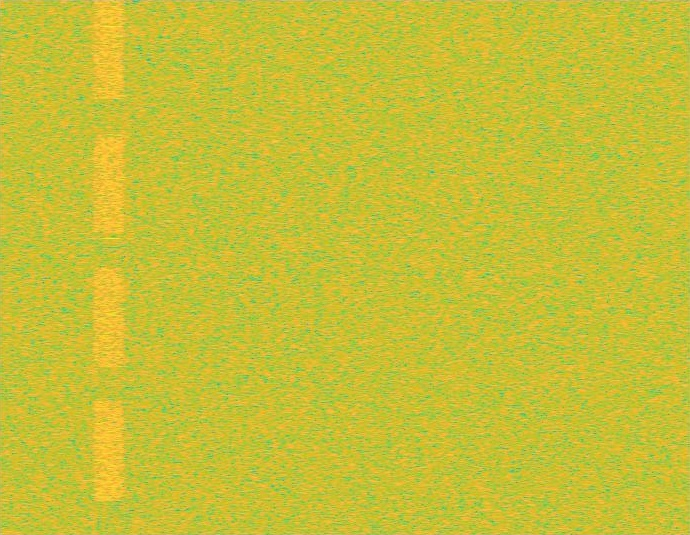5G: (92, 0, 126, 534)
Radar: (106, 0, 119, 534)
